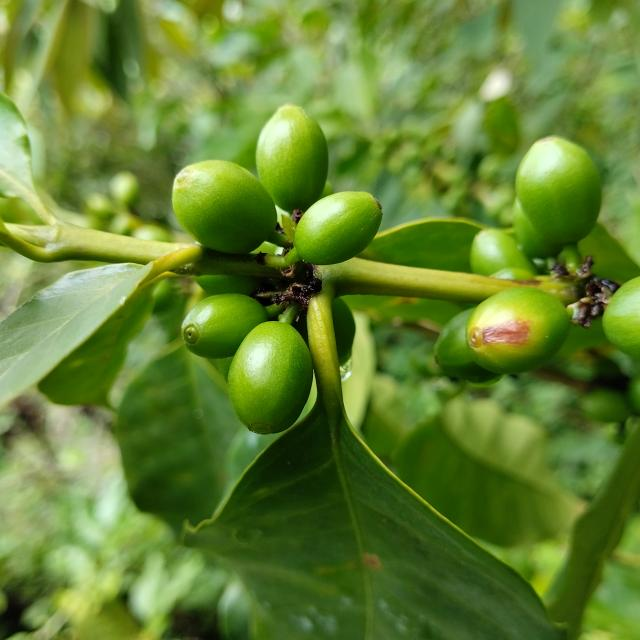green: (172, 160, 277, 254), (228, 321, 313, 435), (228, 321, 313, 435), (516, 136, 602, 245), (467, 286, 571, 375), (467, 288, 571, 375), (256, 104, 328, 211), (256, 104, 328, 211), (294, 191, 382, 265), (181, 294, 268, 359), (181, 294, 268, 359), (434, 308, 501, 383), (434, 308, 501, 383), (470, 228, 537, 280), (603, 276, 640, 359)
